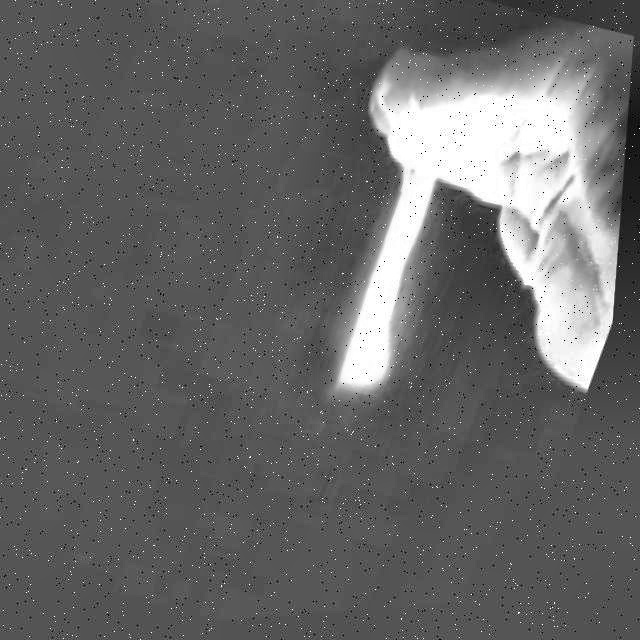Fire: (310, 107, 491, 421)
